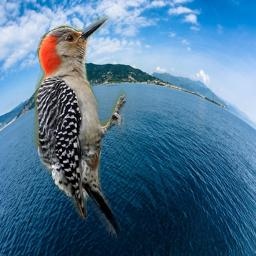Woodpecker: (27, 12, 126, 250)
